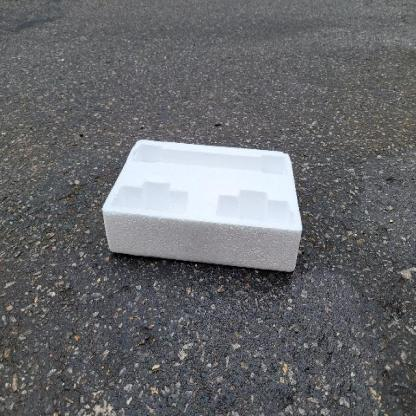Glass Cup: (103, 140, 303, 273), (102, 140, 302, 271)
